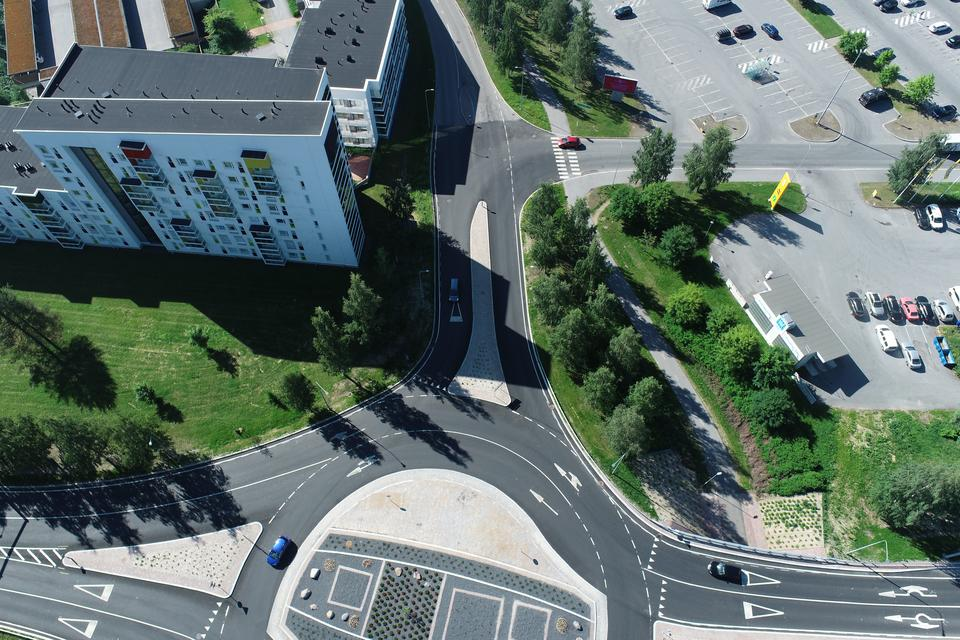intersection: (409, 118, 611, 228)
roundabout: (208, 392, 666, 640)
